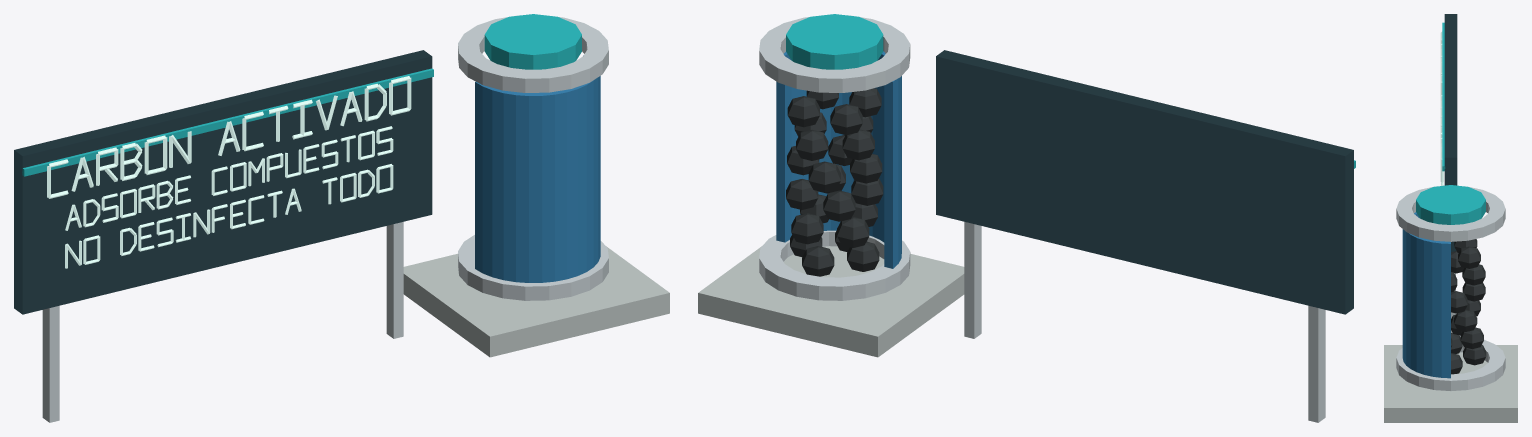
The model's file is AQUA-013.glb.
3 views of the same model, side by side, from view 1: azimuth 30°, elevation 25°; view 2: azimuth 150°, elevation 25°; view 3: azimuth 270°, elevation 25° (orthographic). The views are drawn at different scales.
Visible parts, largest first — view 1: AQUA-013; view 2: AQUA-013; view 3: AQUA-013.
Part boxes in pixels (<box>): AQUA-013: <box>14,14,669,422</box>; AQUA-013: <box>698,14,1355,422</box>; AQUA-013: <box>1384,14,1517,422</box>.
Size of the model in its own units: 4.88 by 2.11 by 1.3.
